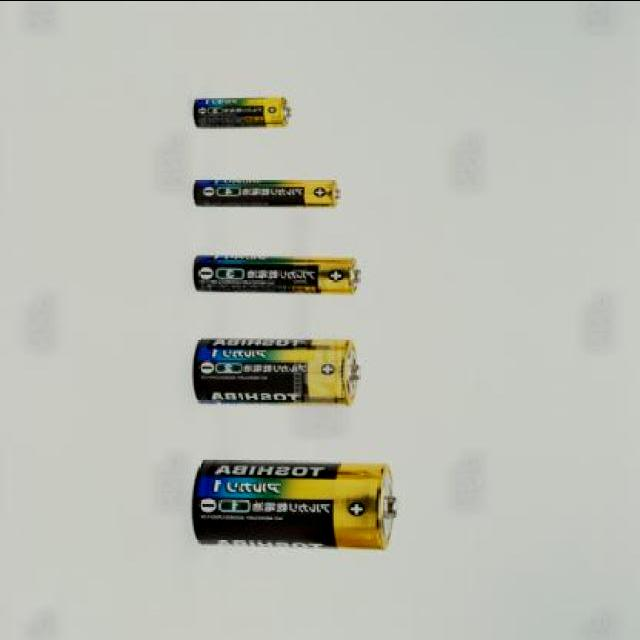AA: (186, 237, 366, 295)
AAA: (186, 170, 345, 208)
